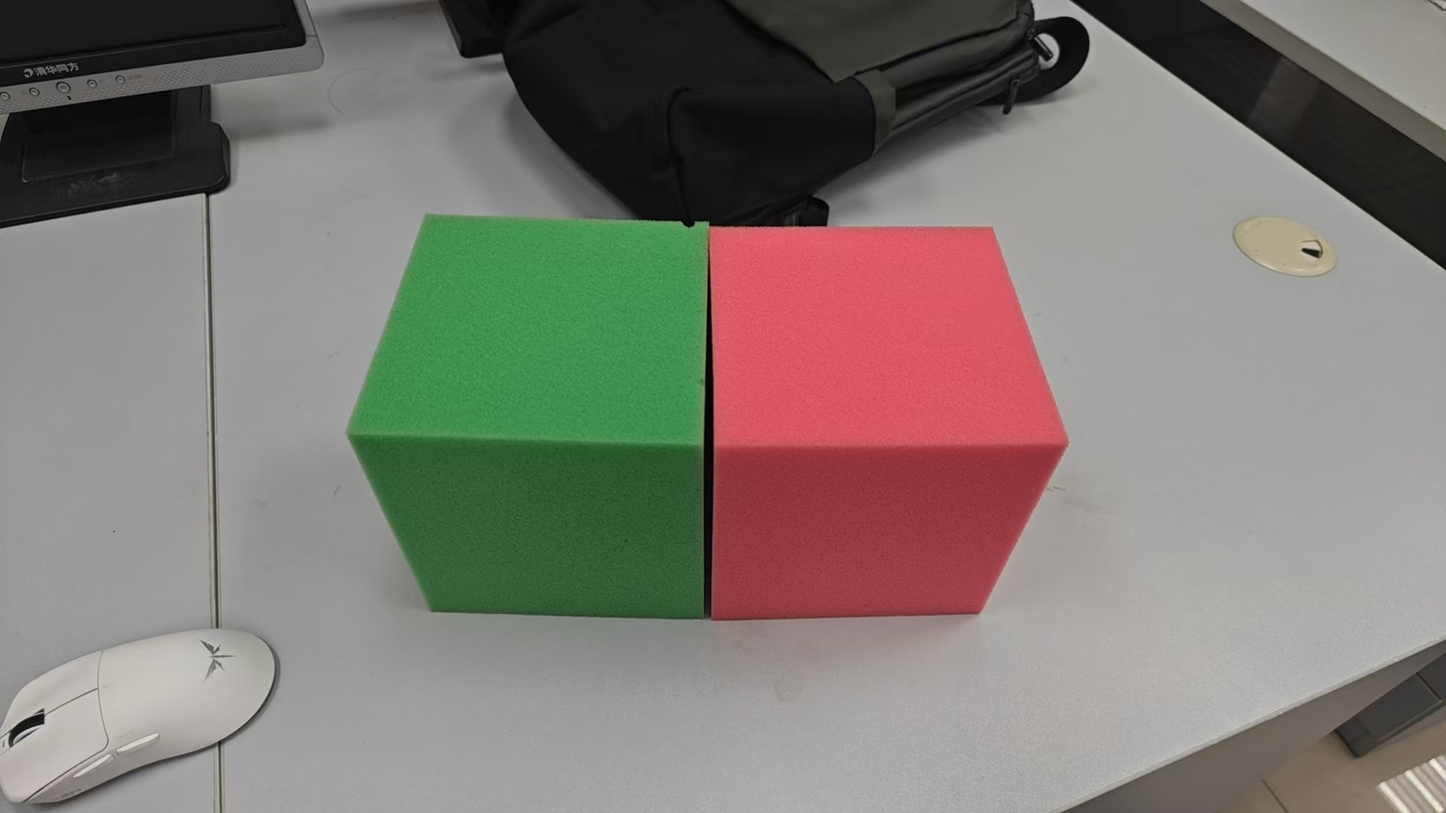green_large: (348, 211, 706, 623)
red_large: (712, 225, 1068, 618)
